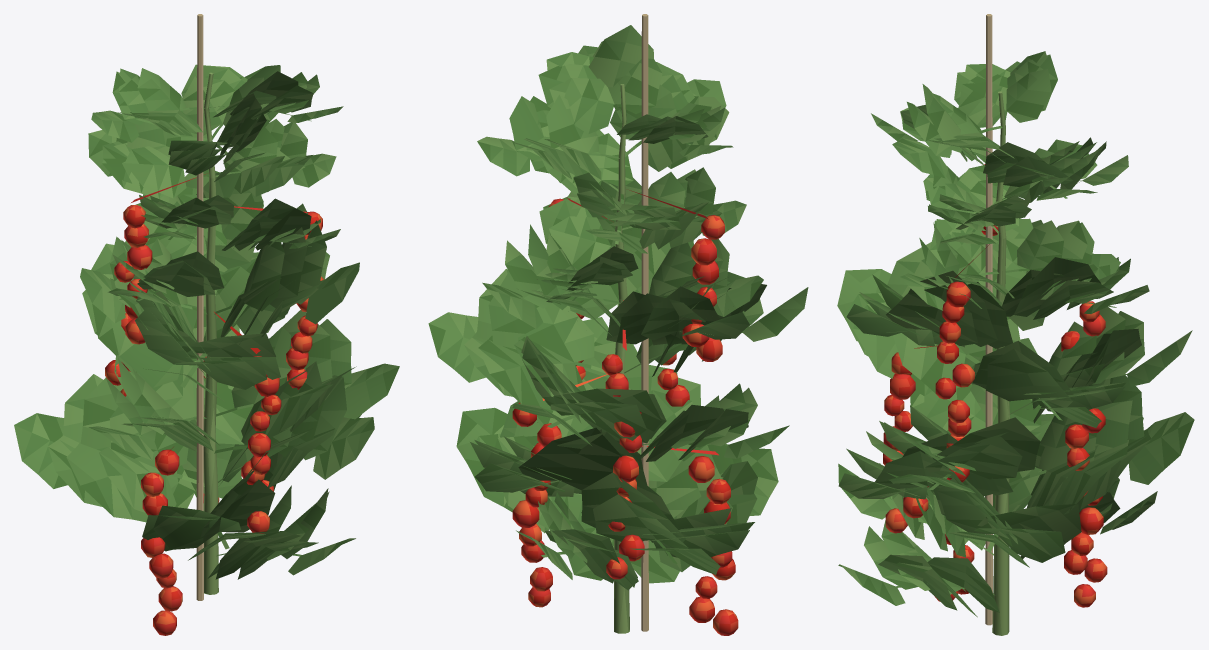
The model's file is tomate_cerise_rouge_mur.glb.
3 views of the same model, side by side, from view 1: azimuth 30°, elevation 25°; view 2: azimuth 150°, elevation 25°; view 3: azimuth 270°, elevation 25° (orthographic). The views are drawn at different scales.
Visible parts, largest first — view 1: Tomate_Feuilles, Tomate_Fruits, Tomate_Tige, Tomate_Tuteur; view 2: Tomate_Feuilles, Tomate_Fruits, Tomate_Tuteur, Tomate_Tige; view 3: Tomate_Feuilles, Tomate_Fruits, Tomate_Tige, Tomate_Tuteur.
Boxes of the visible parts, left/top/right/bottom form: Tomate_Feuilles: left=14, top=64, right=399, bottom=579; Tomate_Fruits: left=105, top=174, right=323, bottom=635; Tomate_Tige: left=203, top=72, right=218, bottom=594; Tomate_Tuteur: left=196, top=14, right=203, bottom=600; Tomate_Feuilles: left=428, top=25, right=808, bottom=590; Tomate_Fruits: left=512, top=190, right=738, bottom=635; Tomate_Tuteur: left=641, top=14, right=648, bottom=631; Tomate_Tige: left=614, top=84, right=629, bottom=633; Tomate_Feuilles: left=837, top=51, right=1194, bottom=617; Tomate_Fruits: left=883, top=164, right=1107, bottom=607; Tomate_Tige: left=992, top=91, right=1010, bottom=635; Tomate_Tuteur: left=985, top=14, right=992, bottom=625.
Size of the model in its own units: 0.561 by 1.07 by 0.5641.
